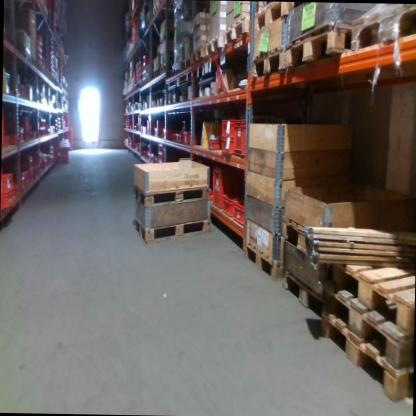pallet: (321, 320, 413, 403), (324, 288, 412, 365), (331, 267, 413, 319), (348, 4, 416, 52), (285, 19, 350, 68), (131, 209, 212, 244), (279, 268, 325, 321), (132, 179, 210, 208), (281, 216, 329, 260), (242, 239, 282, 280), (252, 2, 292, 33), (251, 46, 284, 81), (222, 14, 252, 48), (204, 31, 223, 58), (191, 43, 205, 66), (157, 30, 179, 42), (179, 52, 191, 72), (159, 61, 169, 76), (152, 0, 159, 14), (158, 0, 167, 10), (152, 66, 160, 77)
small_load_carrier: (213, 168, 243, 210), (234, 118, 249, 158), (223, 192, 245, 216), (220, 135, 235, 155), (233, 200, 244, 226), (221, 120, 235, 137), (183, 131, 200, 145), (2, 189, 13, 209), (1, 172, 12, 192), (208, 137, 220, 151), (58, 145, 67, 162), (21, 172, 24, 190), (208, 190, 212, 201)
